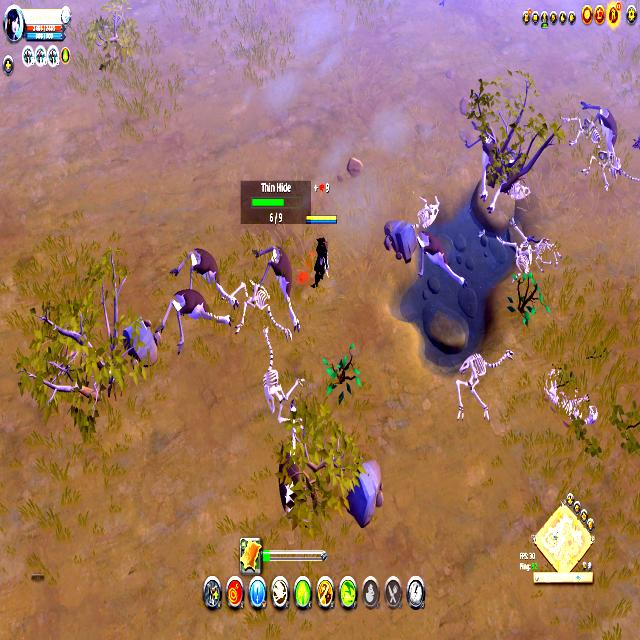mob: (254, 240, 304, 340), (155, 286, 233, 348), (276, 395, 311, 520), (465, 118, 495, 202), (181, 240, 220, 295), (595, 102, 620, 153)
red: (303, 208, 338, 289)
